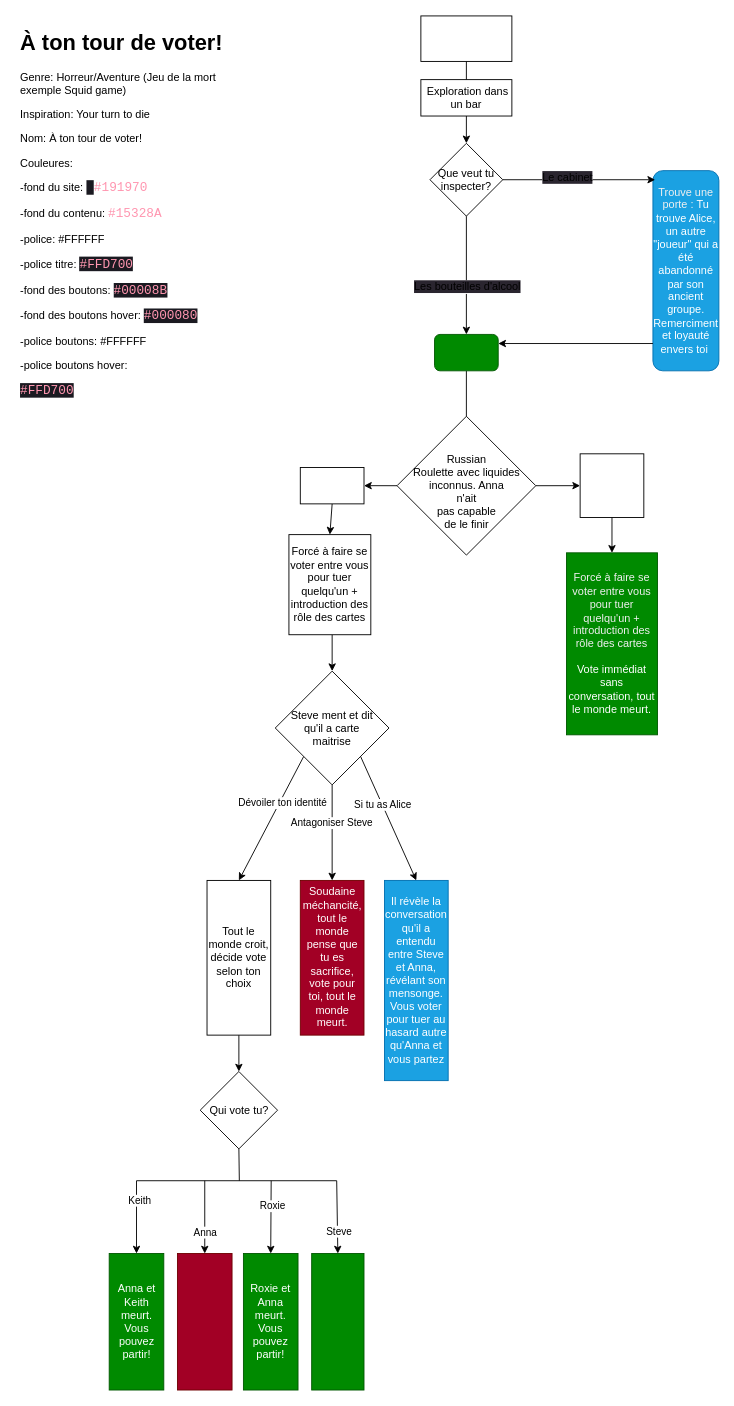
Some shapes in this 734 by 1406 pixel diagram are drawn without their labels. Here are the shapes that lost their labels. From the top down, the centre of each, then its label:
At point 466,38: "Réveil avec Roxie, Anna, Keith et Steve.".
At point 466,352: "Trouve carte maitrise".
At point 331,485: "Aider à le finir".
At point 611,485: "Laisser quelqu'un d'autre le faire".
At point 204,1321: "Anna est le sacrifice, tout le monde meurt sauf elle".
At point 337,1321: "Steve et Anna meurt. Vous pouvez partir!".
